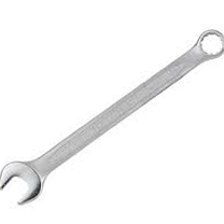Wrench: (1, 27, 224, 206)
